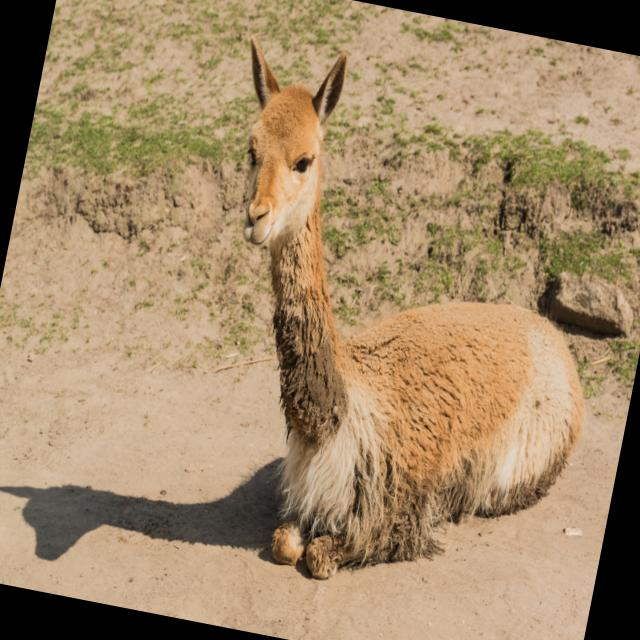alpaca: (152, 34, 640, 625)
